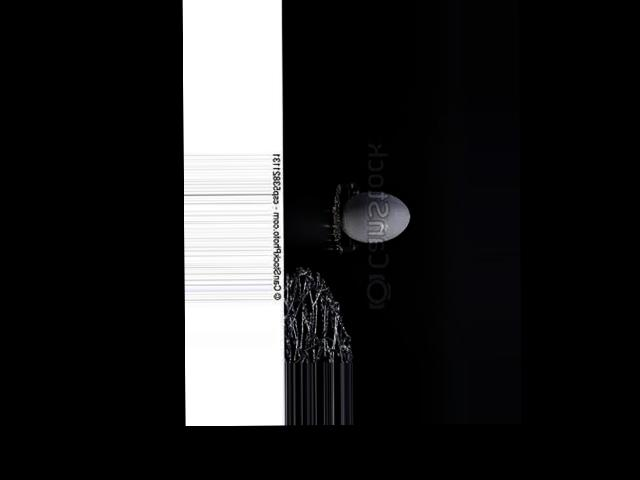egg: (339, 191, 410, 243)
